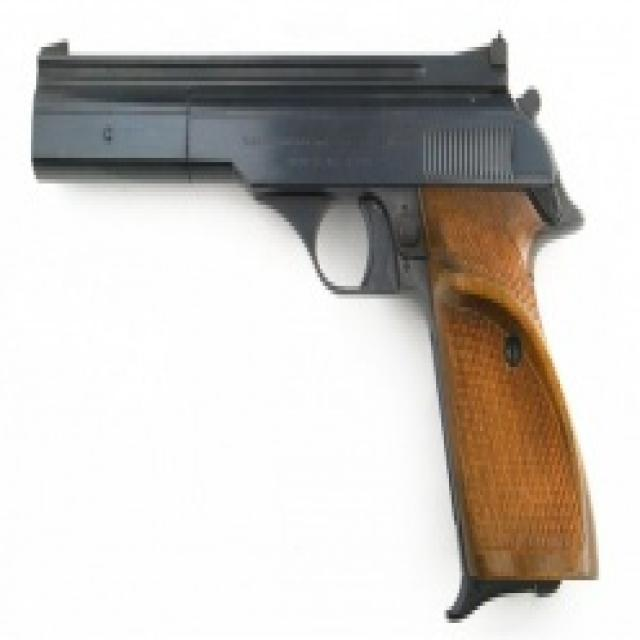pistol: (20, 22, 611, 637)
